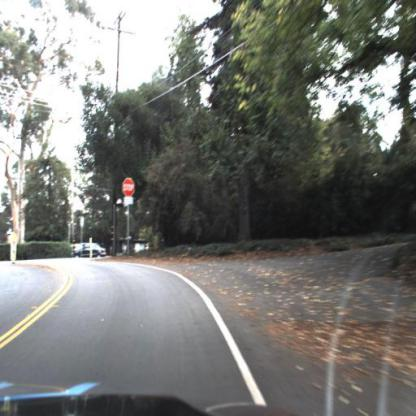car: (70, 236, 112, 265)
